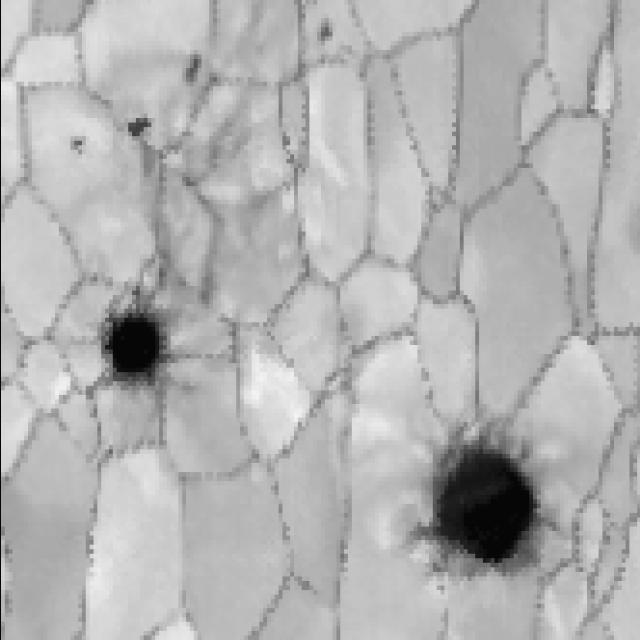good_void: (428, 421, 560, 589), (90, 287, 183, 398), (172, 49, 217, 89), (58, 126, 102, 158), (309, 11, 340, 49), (111, 114, 159, 137), (179, 168, 211, 190)
